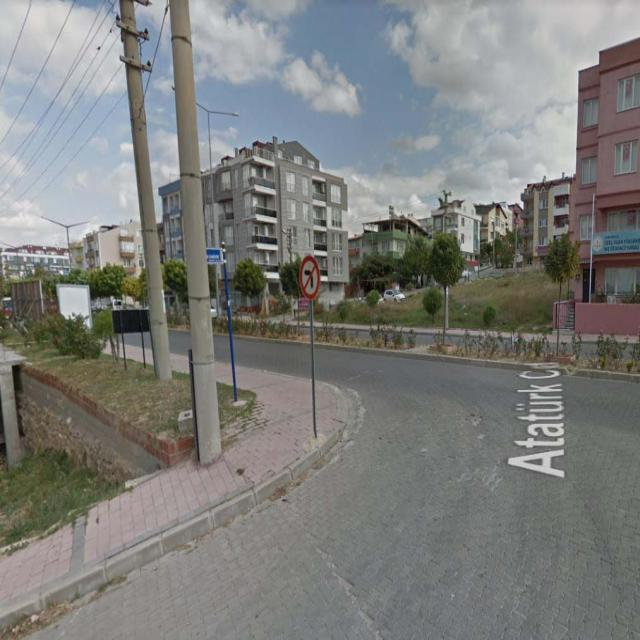soladonulmez: (300, 255, 320, 297)
